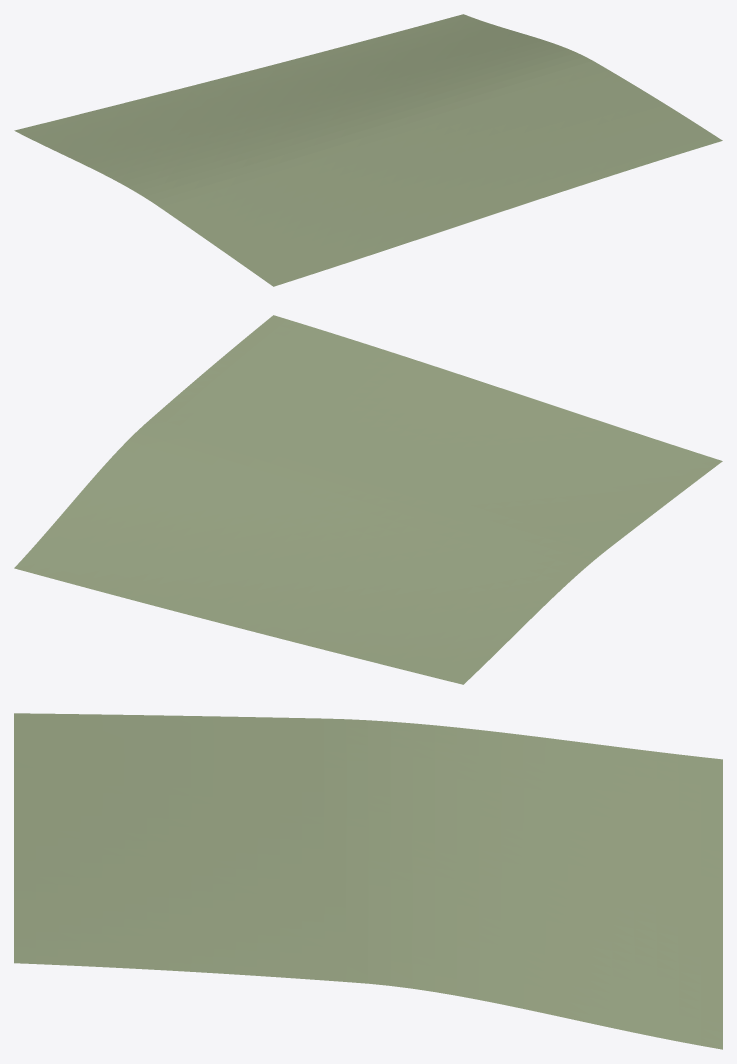
File: valley-14-9.glb
3 renders of one model, top to bottom at view 1: azimuth 30°, elevation 25°; view 2: azimuth 150°, elevation 25°; view 3: azimuth 270°, elevation 25°, orthographic. The views are drawn at different scales.
Visible parts, largest first — view 1: valley-14-9; view 2: valley-14-9; view 3: valley-14-9.
Part boxes in pixels (<box>): valley-14-9: <box>14,14,722,286</box>; valley-14-9: <box>14,315,722,684</box>; valley-14-9: <box>14,713,722,1049</box>.
Bounding box in the file's own units: 256 × 38.18 × 256.
